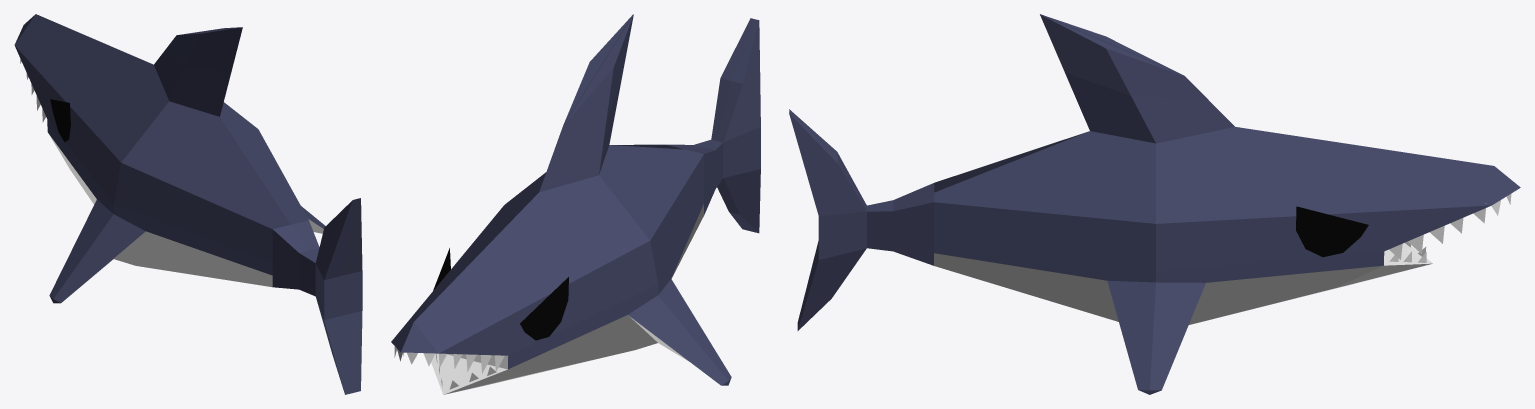
The model's file is shark.fbx.
3 views of the same model, side by side, from view 1: azimuth 30°, elevation 25°; view 2: azimuth 150°, elevation 25°; view 3: azimuth 270°, elevation 25° (orthographic). The views are drawn at different scales.
Visible parts, largest first — view 1: Cube.004, Circle; view 2: Cube.004, Circle; view 3: Cube.004, Circle, Plane.012.
Boxes of the visible parts, x1,y1,x2,y2 form: Cube.004: (14,14,362,394); Circle: (50,99,70,141); Cube.004: (391,14,760,394); Circle: (433,248,568,340); Cube.004: (789,14,1520,394); Circle: (1296,206,1368,256); Plane.012: (1389,200,1500,259).
Size of the model in its own units: 366 by 358 by 759.
